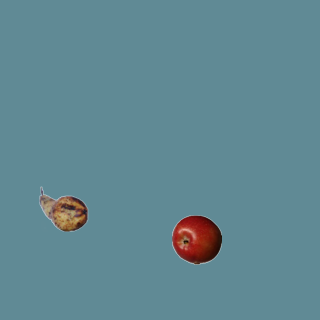Apple Braeburn: (171, 214, 221, 264)
Pear Abate: (38, 184, 88, 234)
